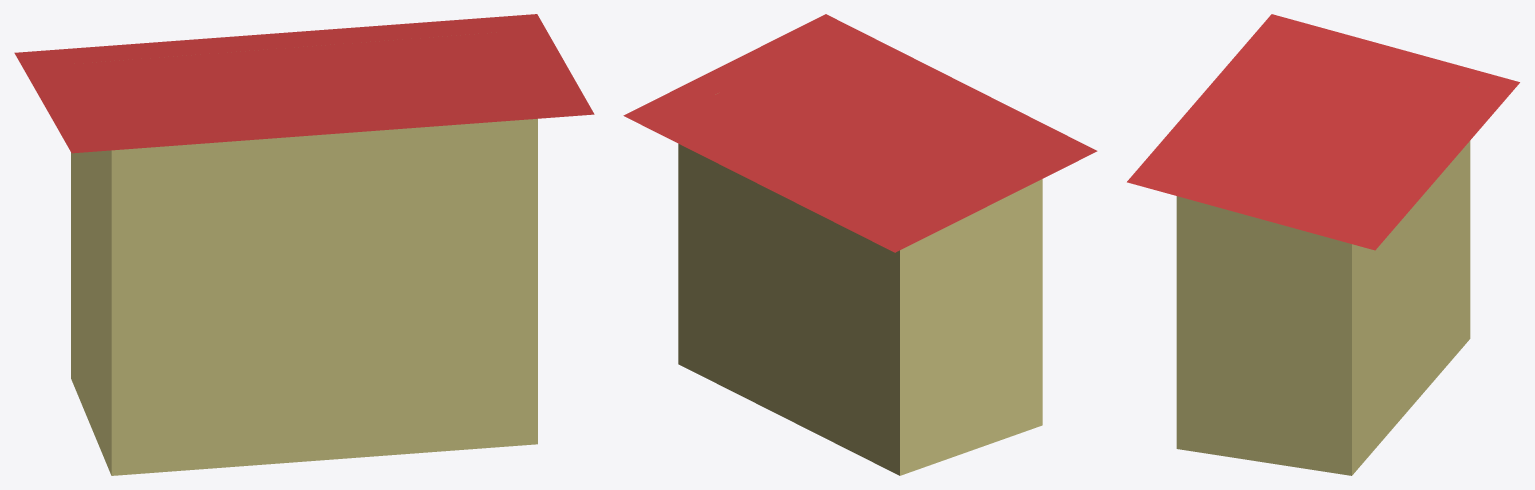
3 views of the same model, side by side, from view 1: azimuth 30°, elevation 25°; view 2: azimuth 150°, elevation 25°; view 3: azimuth 270°, elevation 25° (orthographic). The views are drawn at different scales.
Bounding box in the file's own units: 9.37 × 7.55 × 5.85.
